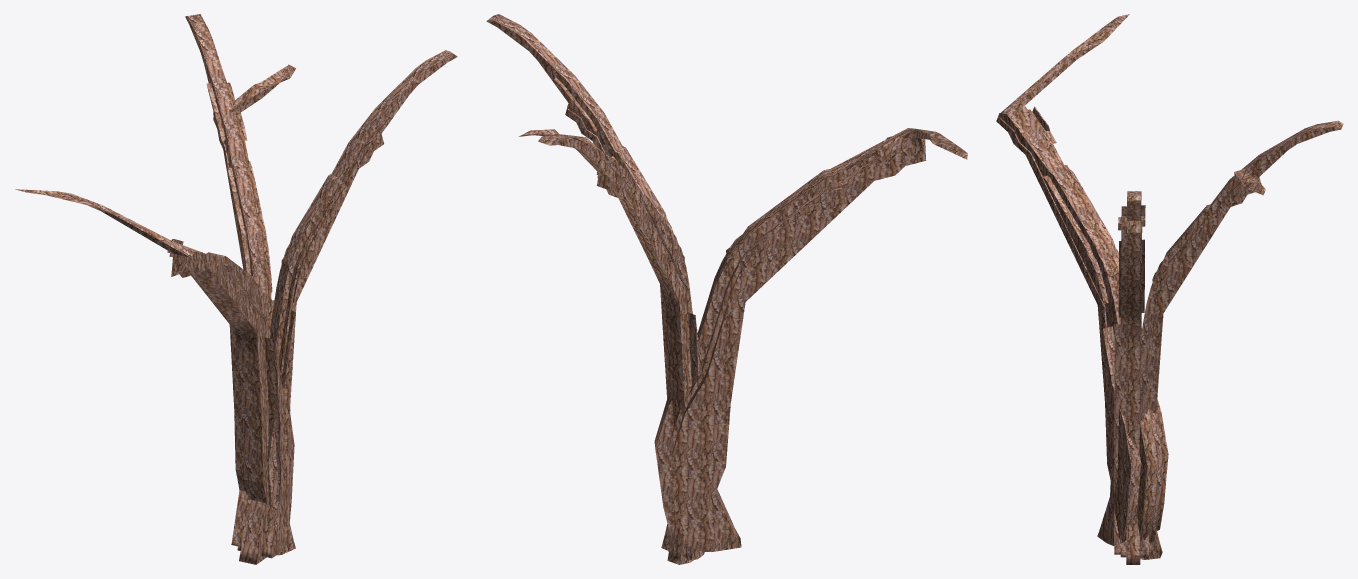
File: Tree 1.dae
3 renders of one model, left to right at view 1: azimuth 30°, elevation 25°; view 2: azimuth 150°, elevation 25°; view 3: azimuth 270°, elevation 25°, orthographic. The views are drawn at different scales.
Parts seen in each view (by area): view 1: SketchUp (×12); view 2: SketchUp (×6); view 3: SketchUp (×11).
Part boxes in pixels (box(x1,y1,x2,y2)): SketchUp (×12): box(15, 14, 457, 564); SketchUp (×6): box(486, 14, 967, 564); SketchUp (×11): box(996, 14, 1343, 564).
Size of the model in its own units: 182 by 126 by 180.
1 material, 1 textured.
